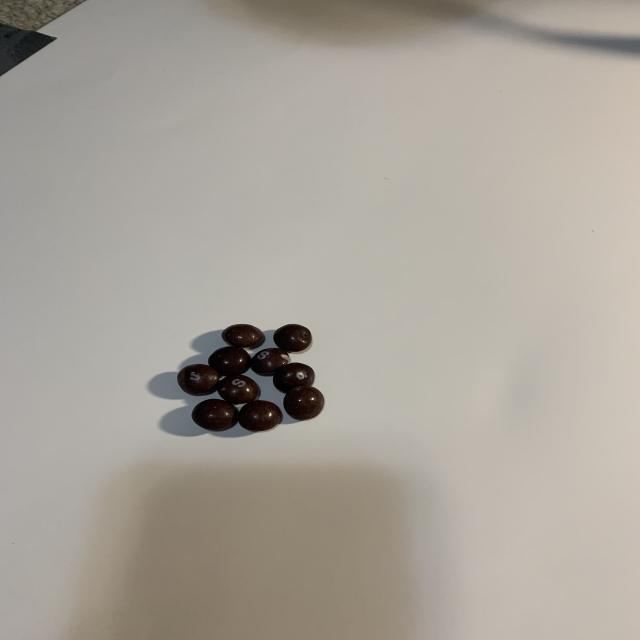smartie: (191, 399, 237, 432), (237, 400, 282, 432), (283, 386, 324, 421), (176, 364, 219, 395), (207, 346, 250, 376), (273, 363, 314, 393), (217, 375, 259, 404), (273, 324, 312, 352), (250, 348, 290, 375), (221, 324, 264, 348)
